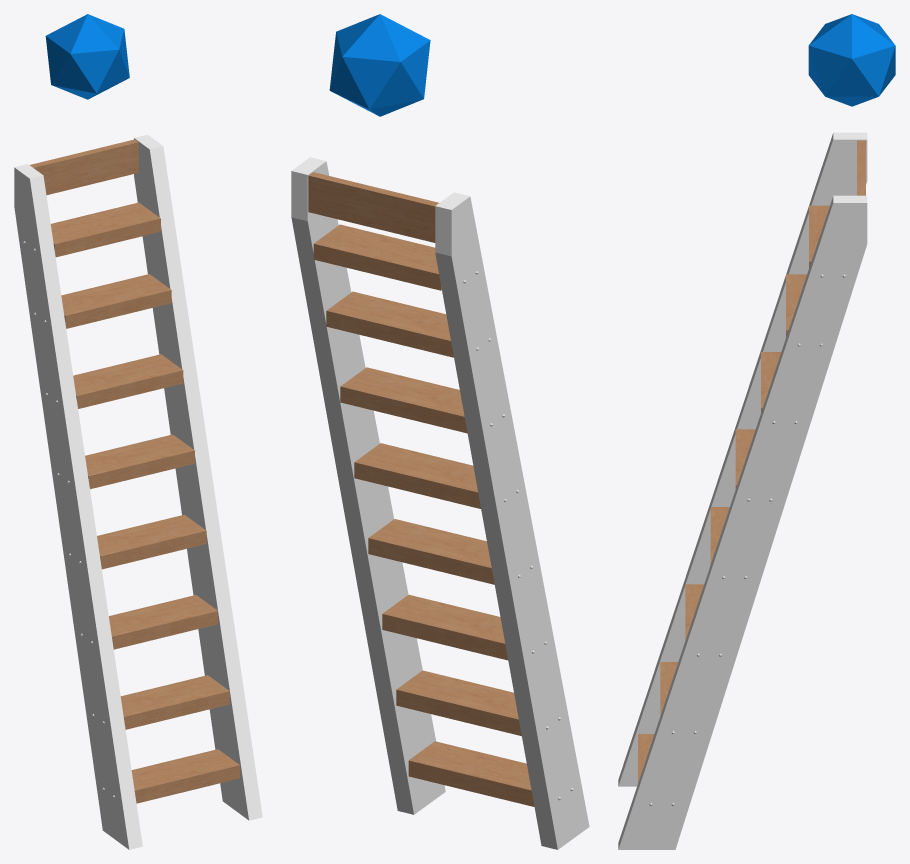
File: Ladder 7'.glb
3 views of the same model, side by side, from view 1: azimuth 30°, elevation 25°; view 2: azimuth 150°, elevation 25°; view 3: azimuth 270°, elevation 25° (orthographic). The views are drawn at different scales.
Visible parts, largest first — view 1: Cube.112, Cube.118, Joint.044; view 2: Cube.112, Cube.118, Joint.044; view 3: Cube.112, Joint.044, Cube.118.
Part boxes in pixels (bbox=[...]): Cube.112: bbox=[14, 134, 262, 849]; Cube.118: bbox=[34, 274, 229, 729]; Joint.044: bbox=[45, 14, 129, 99]; Cube.112: bbox=[291, 157, 589, 849]; Cube.118: bbox=[326, 291, 560, 736]; Joint.044: bbox=[329, 14, 430, 116]; Cube.112: bbox=[618, 132, 867, 849]; Joint.044: bbox=[808, 14, 895, 106]; Cube.118: bbox=[660, 274, 822, 733].
Bounding box in the file's own units: 0.5082 × 2.63 × 0.8257.
Materials: 4 (1 with a texture image).
